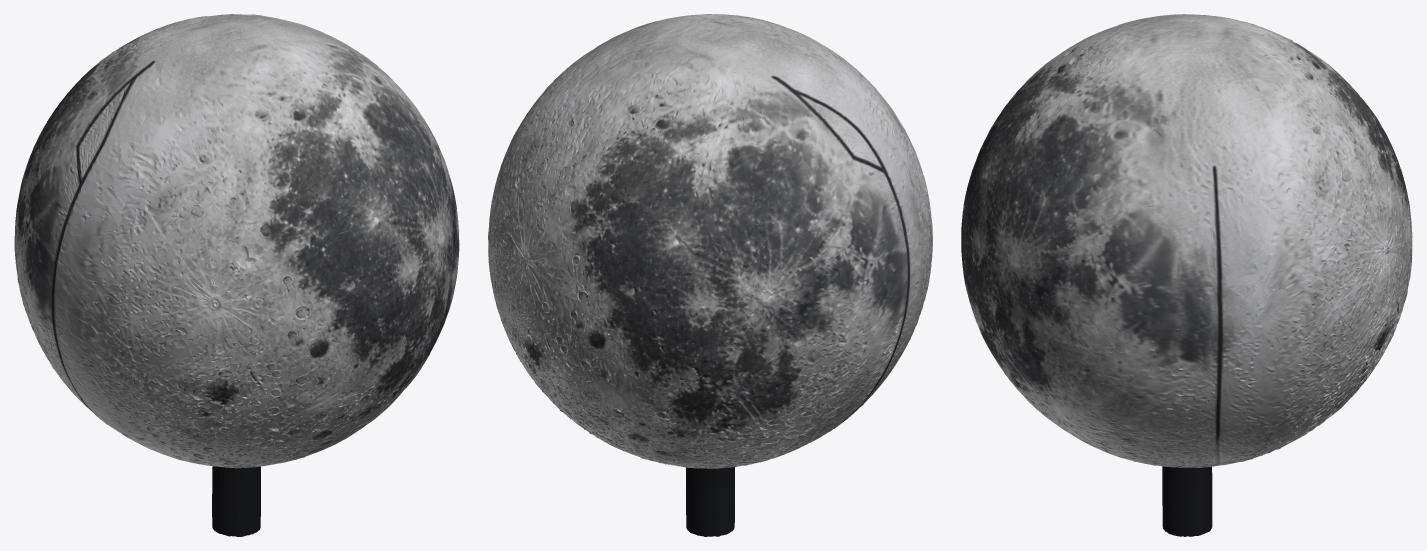
3 renders of one model, left to right at view 1: azimuth 30°, elevation 25°; view 2: azimuth 150°, elevation 25°; view 3: azimuth 270°, elevation 25°, orthographic.
Visible parts, largest first — view 1: world; view 2: world; view 3: world.
Part boxes in pixels (box(x1,y1,x2,y2)): world: box(14, 14, 459, 536); world: box(488, 14, 932, 536); world: box(961, 14, 1412, 536).
Size of the model in its own units: 0.8136 by 0.9997 by 0.83.
Materials: 1 (1 with a texture image).
